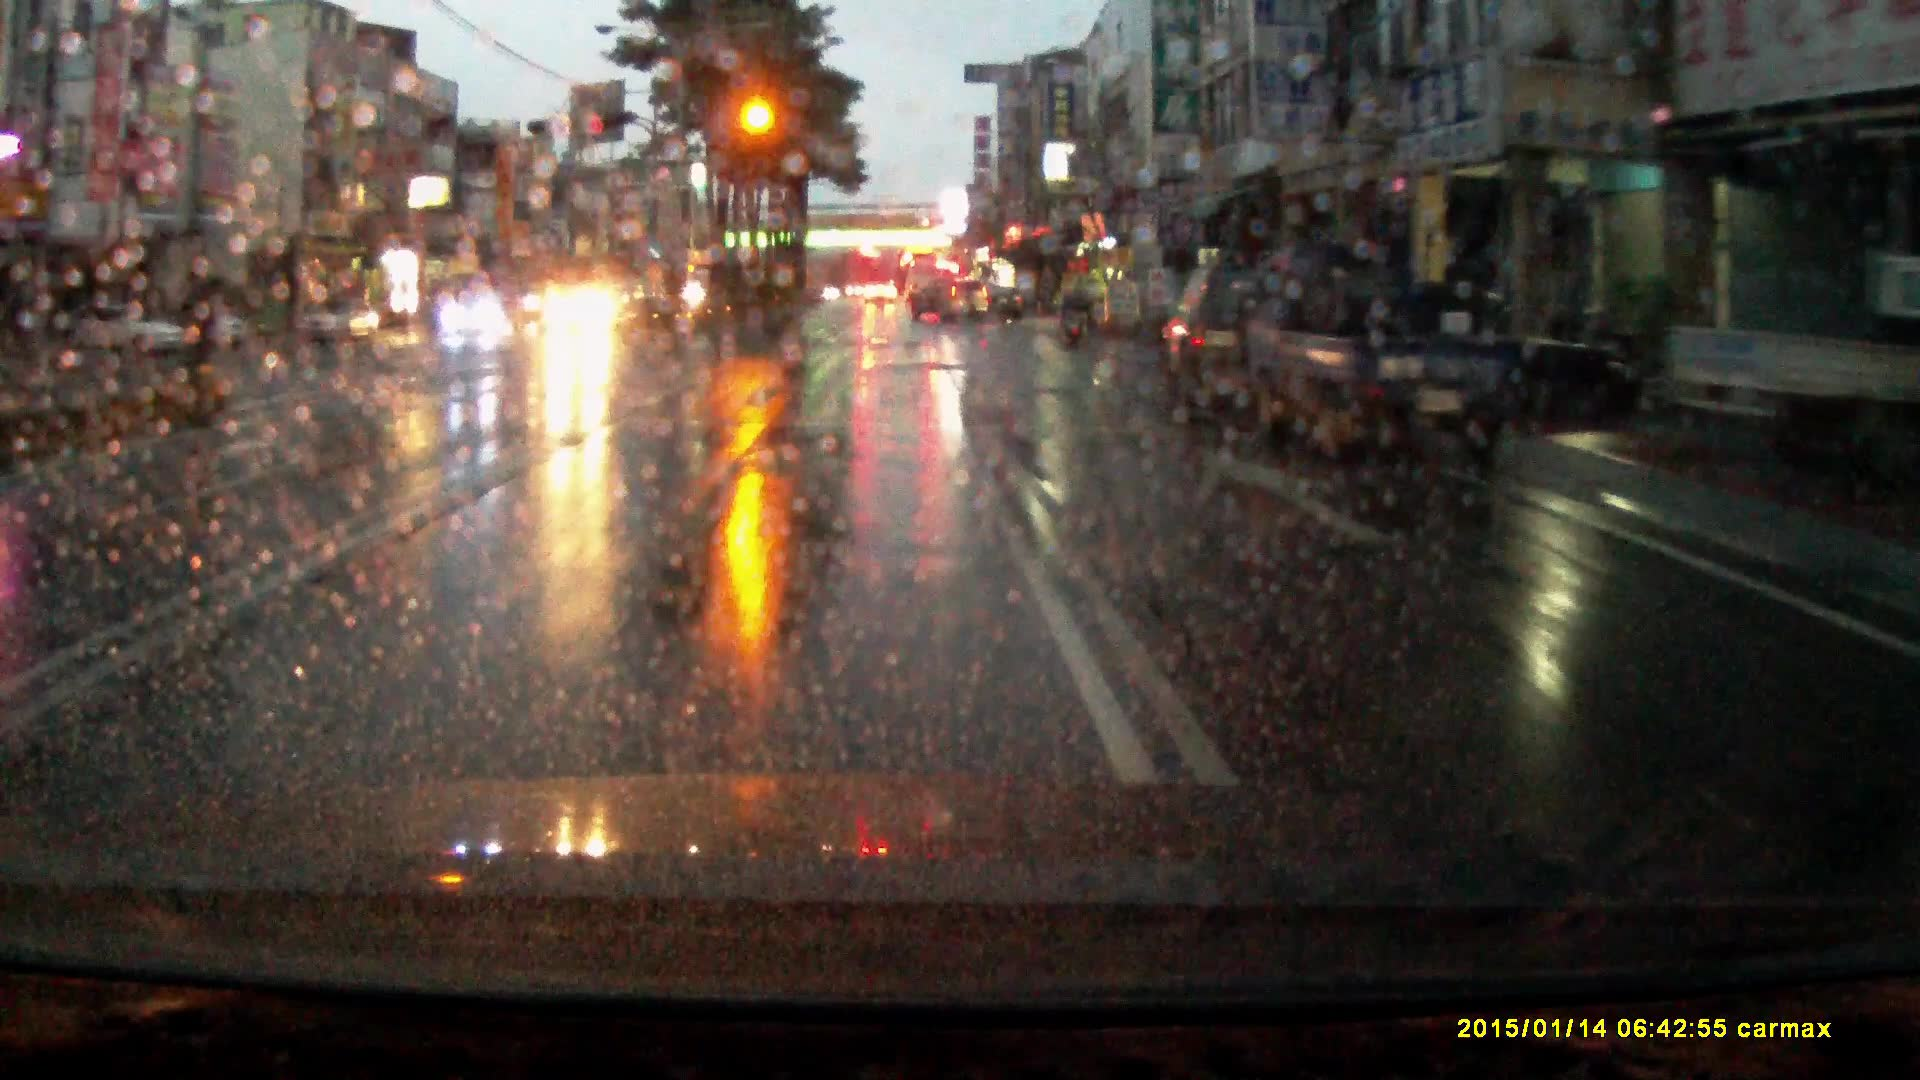vehicle: (1257, 240, 1526, 465), (1668, 287, 1920, 479), (1166, 262, 1263, 429), (65, 307, 175, 363), (543, 287, 622, 349), (305, 299, 384, 353), (913, 278, 990, 326), (444, 295, 510, 343), (187, 305, 247, 355), (906, 258, 943, 305), (986, 287, 1022, 323), (864, 282, 899, 309)
